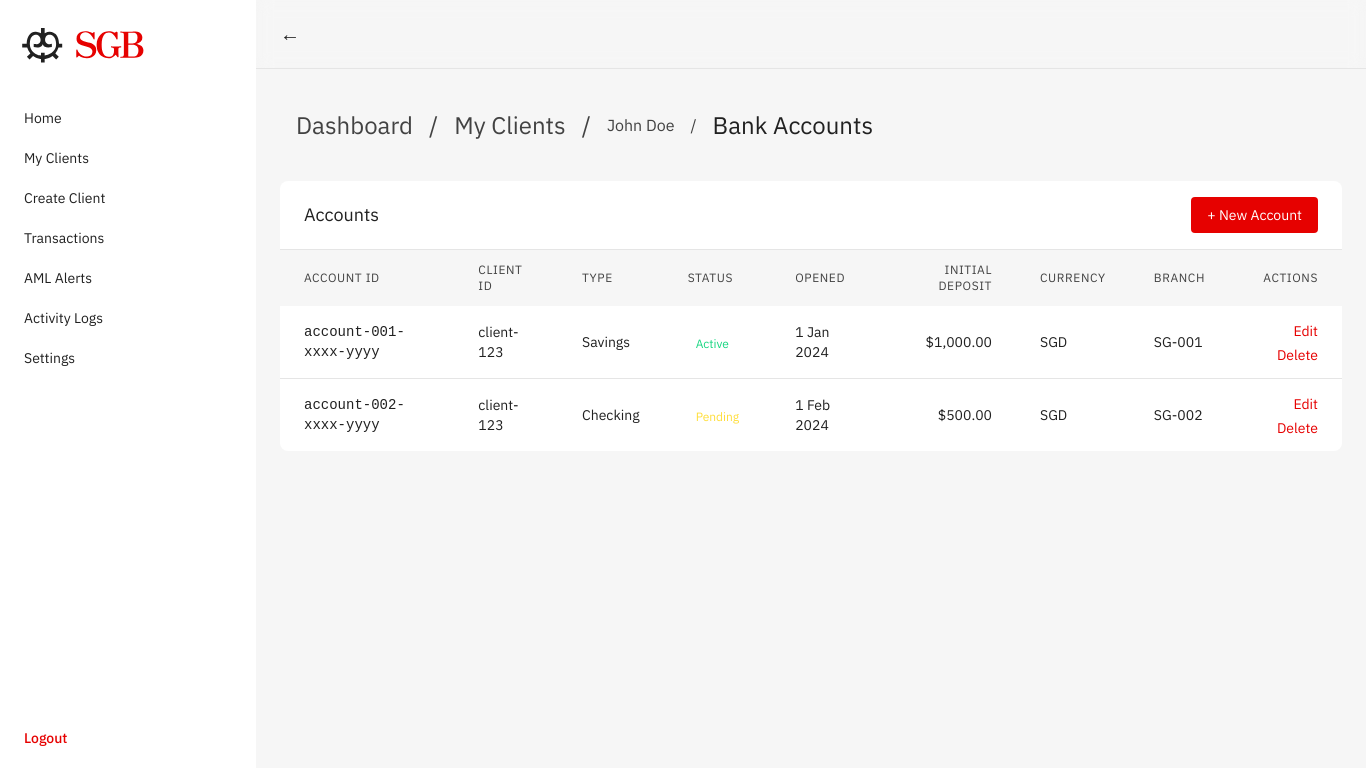
Test: ClientAccountsPage › should open delete confirmation when Delete button is clicked
Click the button "Delete" in the row of "Savings" at (1297, 355), box [1277,345,1318,365]
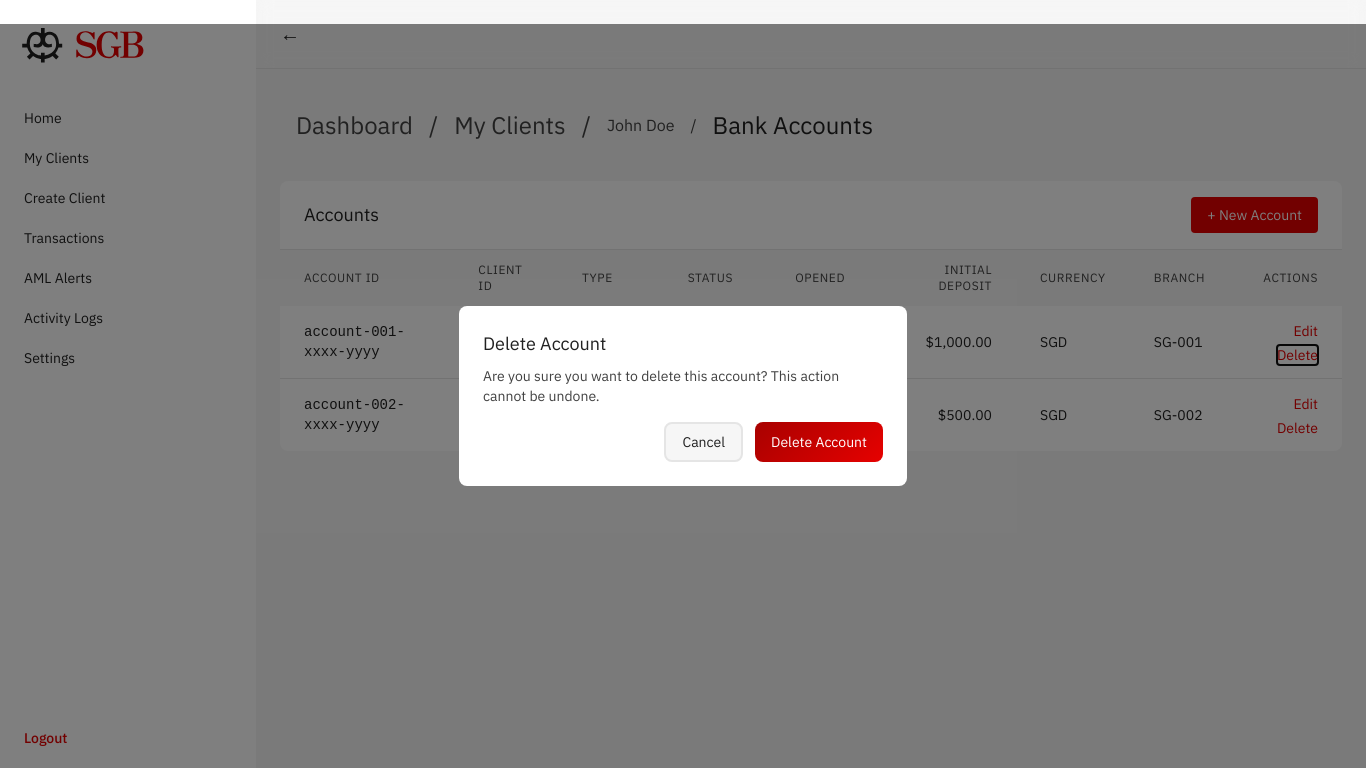
Check: the element with test id "delete-account-modal" is shown
Check: the text "Are you sure you want to delete this account? This action cannot be undone." is shown, box [483,366,883,406]
